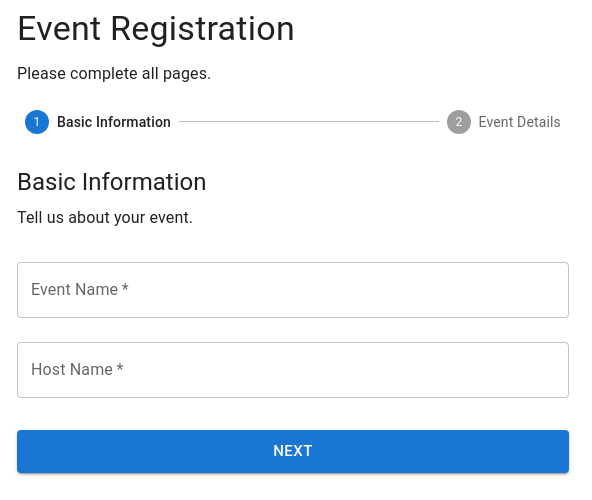
Test: DynamicForm › Multi-page form › navigates to second page when Next is clicked
// Fill in required fields on first page
Step 1. Type "Test Event" into the field labelled "Event Name *" → (293, 290), box [17,262,569,318]
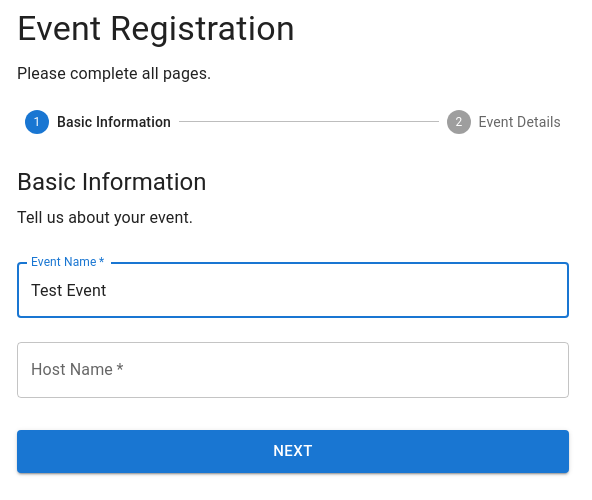
Step 2. Type "Test Host" into the field labelled "Host Name *" → (293, 370), box [17,342,569,398]
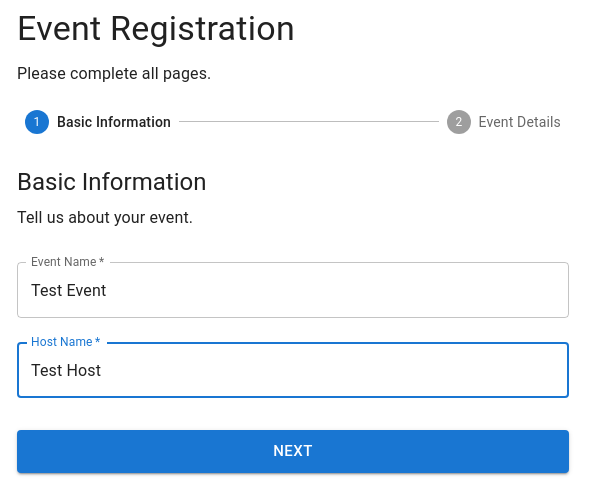
Step 3. Click the button "Next" → (293, 451), box [17,430,569,473]
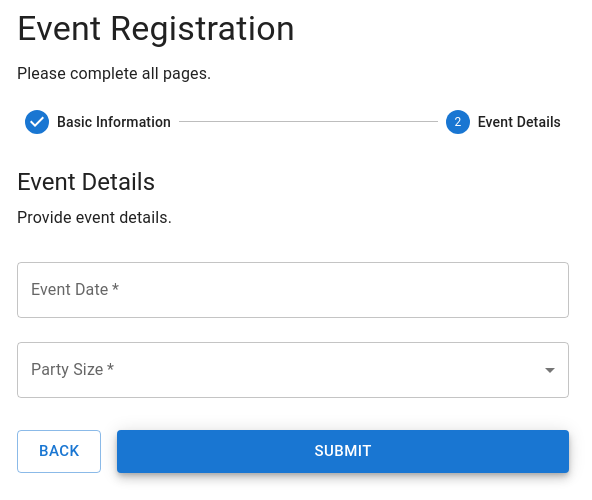
Result: the field labelled "Event Date *" is shown at [17,262,569,318]
Result: the dropdown named "Party Size" is shown at [17,342,569,398]
Result: the label labelled "Event Name" is gone
